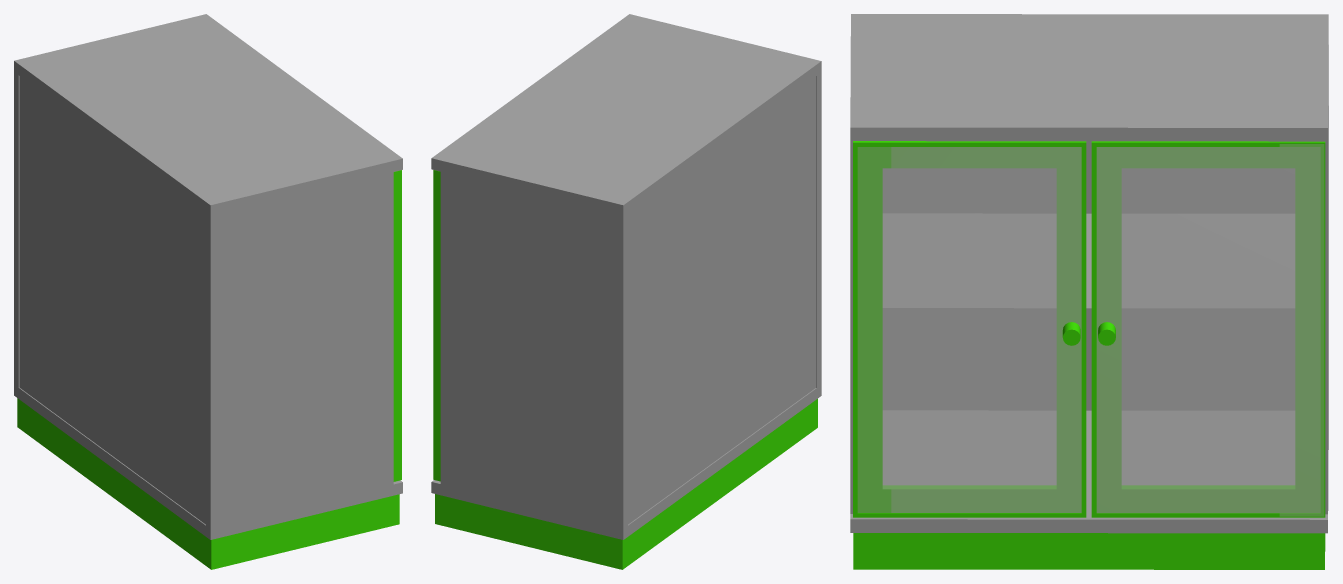
File: baseline_2OH_display_case_45x80_FIN.fbx
3 views of the same model, side by side, from view 1: azimuth 30°, elevation 25°; view 2: azimuth 150°, elevation 25°; view 3: azimuth 270°, elevation 25° (orthographic). The views are drawn at different scales.
Parts seen in each view (by area): view 1: body_mesh, podstawa_mesh, doorR; view 2: body_mesh, podstawa_mesh, doorL; view 3: body_mesh, glassL, glassR, doorL, doorR, podstawa_mesh.
Boxes of the visible parts, <box> form: body_mesh: <box>14,14,402,539</box>; podstawa_mesh: <box>17,398,399,569</box>; doorR: <box>393,170,401,481</box>; body_mesh: <box>431,14,821,539</box>; podstawa_mesh: <box>435,399,817,569</box>; doorL: <box>433,170,440,481</box>; body_mesh: <box>850,14,1328,533</box>; glassL: <box>1096,144,1323,516</box>; glassR: <box>858,147,1081,512</box>; doorL: <box>1091,141,1325,517</box>; doorR: <box>853,141,1086,517</box>; podstawa_mesh: <box>853,533,1325,569</box>.
Bounding box in the file's own units: 48.02 × 81.9 × 80.1.
